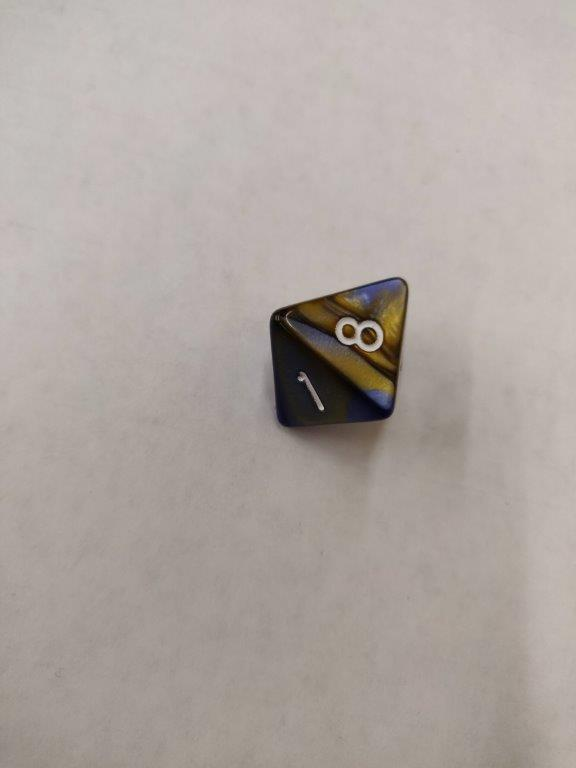d8-8: (270, 273, 411, 432)
